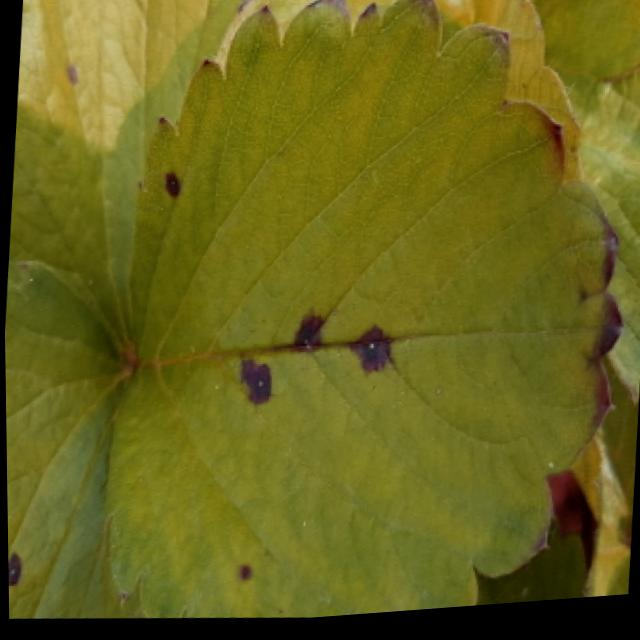Leaf Spot: (98, 0, 624, 622), (7, 0, 253, 350), (4, 256, 142, 620)
